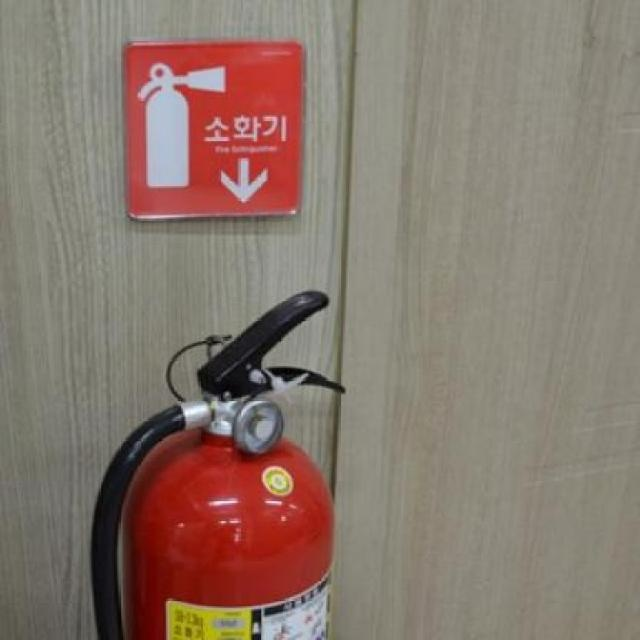fire extinguisher: (89, 287, 346, 640)
